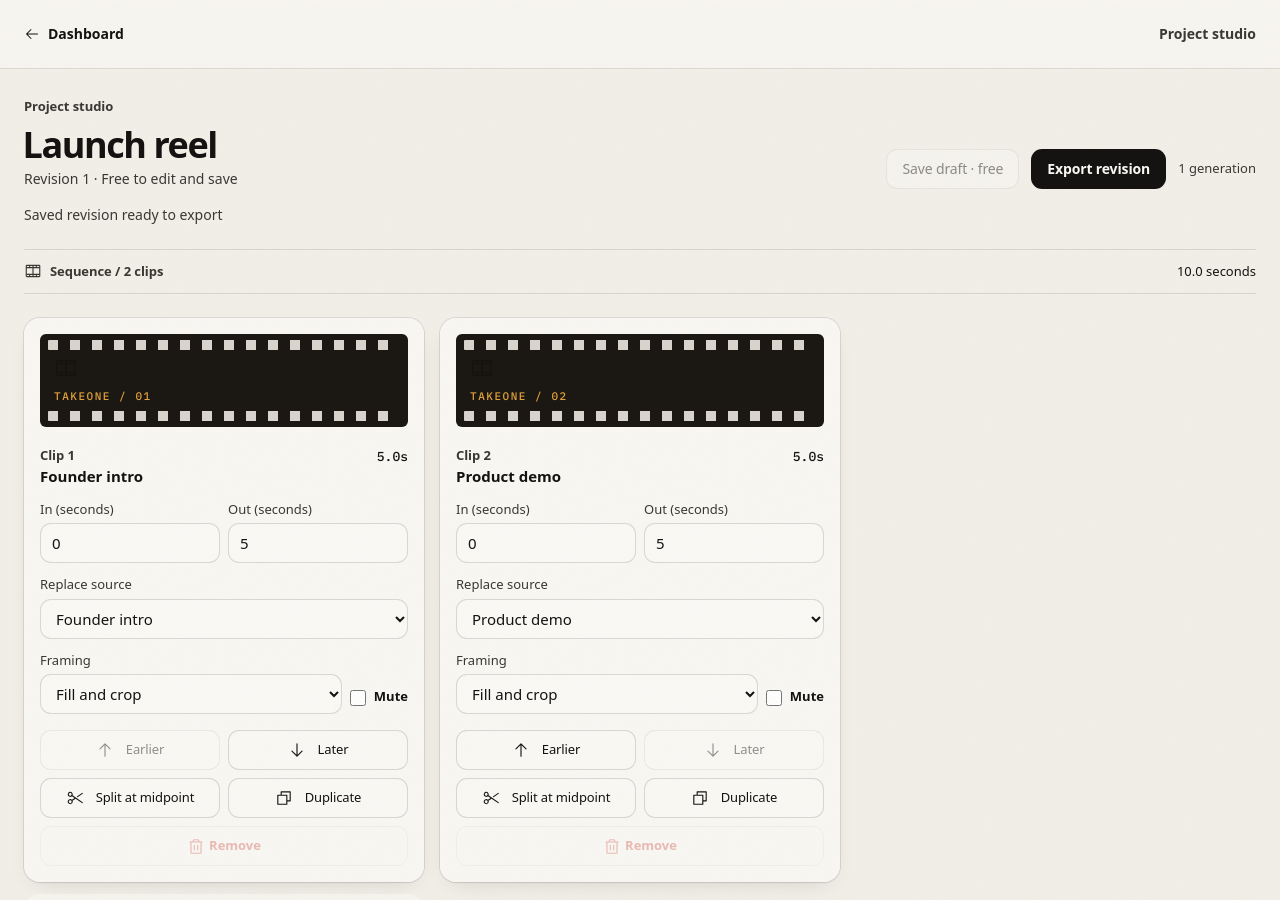
it: pending export freezes edits and never navigates after the account scope changes
What coordinates should you click on to do the following:
click the button "Export revision"
I would click on:
 (1099, 168)
Its box is [1031,148,1166,188].
(page scrolled)
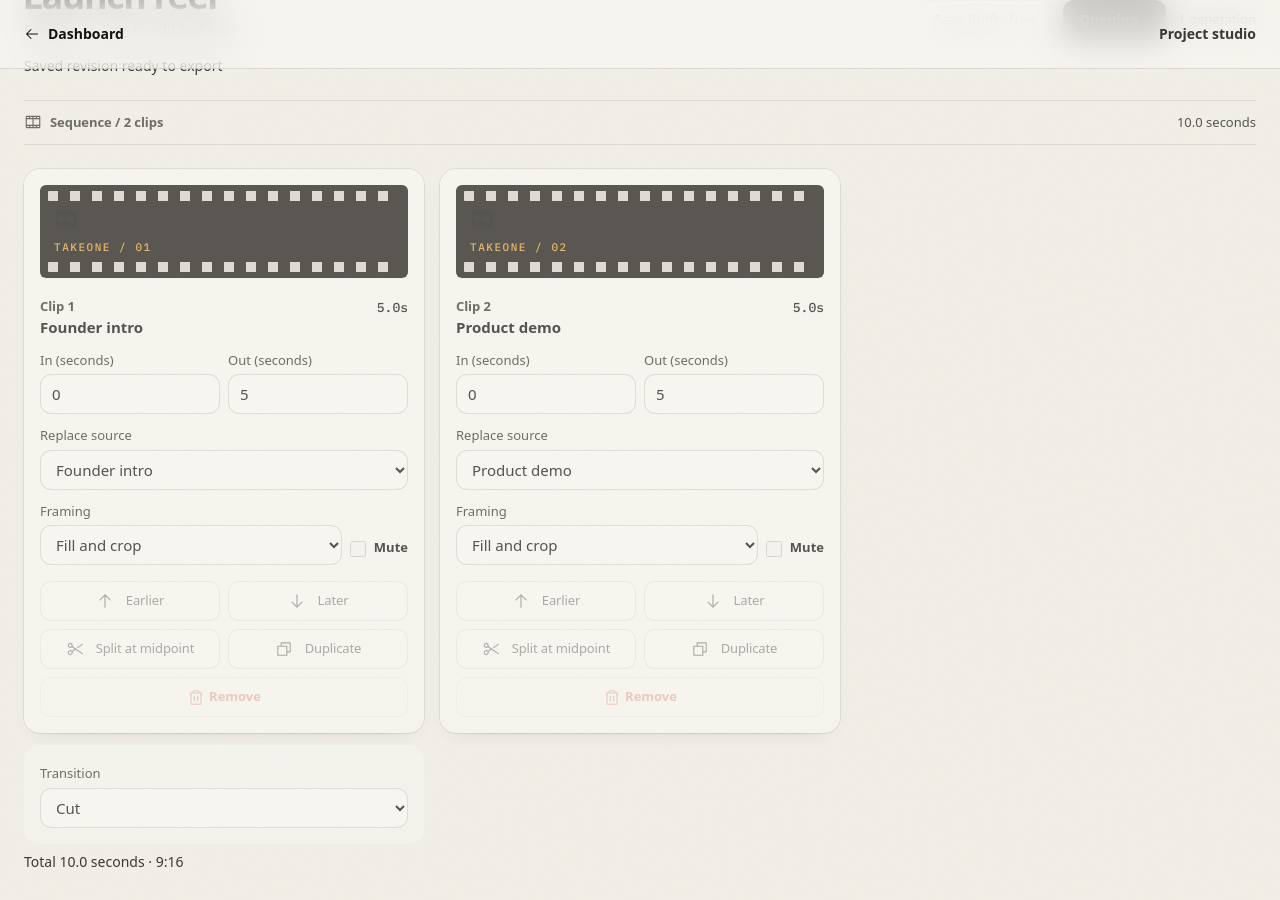
Expected: the element named "Clip 1 out (seconds)" is disabled
